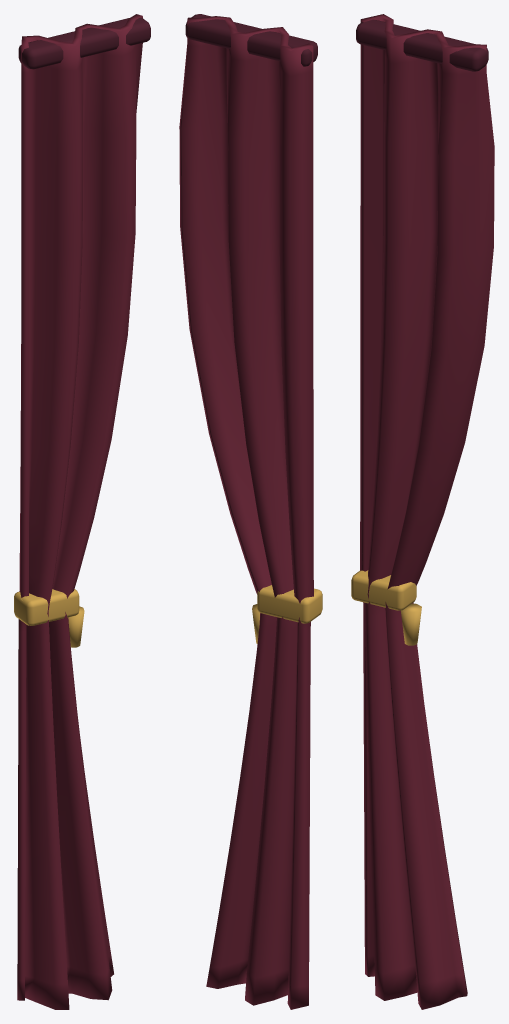
File: rooftop_drapes.glb
3 renders of one model, left to right at view 1: azimuth 30°, elevation 25°; view 2: azimuth 150°, elevation 25°; view 3: azimuth 330°, elevation 25°, orthographic.
Visible parts, largest first — view 1: Drape, Heading, TieBack, TieTassel; view 2: Drape, Heading, TieBack; view 3: Drape, Heading, TieBack, TieTassel.
Boxes of the visible parts, x1,y1,x2,y2 form: Drape: [17, 14, 142, 1009]; Heading: [18, 18, 150, 69]; TieBack: [14, 589, 79, 625]; TieTassel: [68, 606, 84, 647]; Drape: [179, 16, 313, 1009]; Heading: [185, 14, 317, 66]; TieBack: [257, 585, 322, 623]; Drape: [360, 14, 494, 1009]; Heading: [356, 19, 488, 71]; TieBack: [351, 570, 416, 610]; TieTassel: [401, 603, 421, 645].
Bounding box in the file's own units: 0.2636 × 1.92 × 0.0958.
